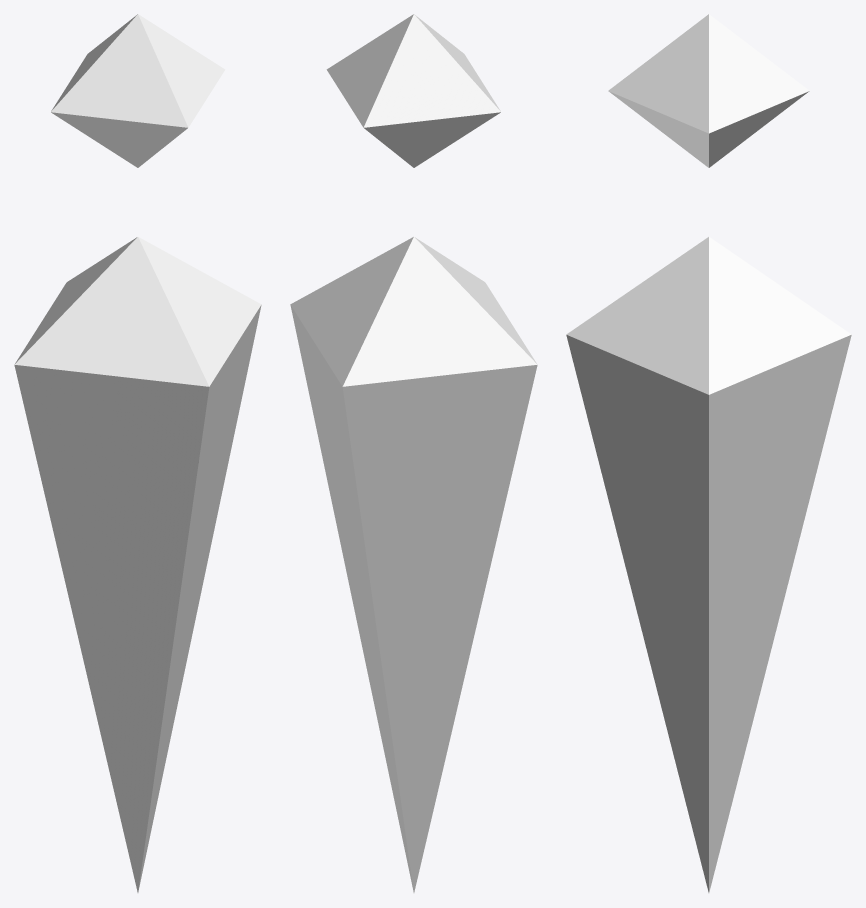
The model's file is Mark.fbx.
The picture shows the model from 3 angles, left to right: view 1: azimuth 30°, elevation 25°; view 2: azimuth 150°, elevation 25°; view 3: azimuth 270°, elevation 25°; orthographic projection.
Parts seen in each view (by area): view 1: 平面; view 2: 平面; view 3: 平面.
Boxes of the visible parts, left/top/right/bottom form: 平面: left=14, top=14, right=261, bottom=892; 平面: left=290, top=14, right=537, bottom=892; 平面: left=566, top=14, right=851, bottom=892.
Bounding box in the file's own units: 14.71 × 50 × 14.71.
1 material, 1 textured.
